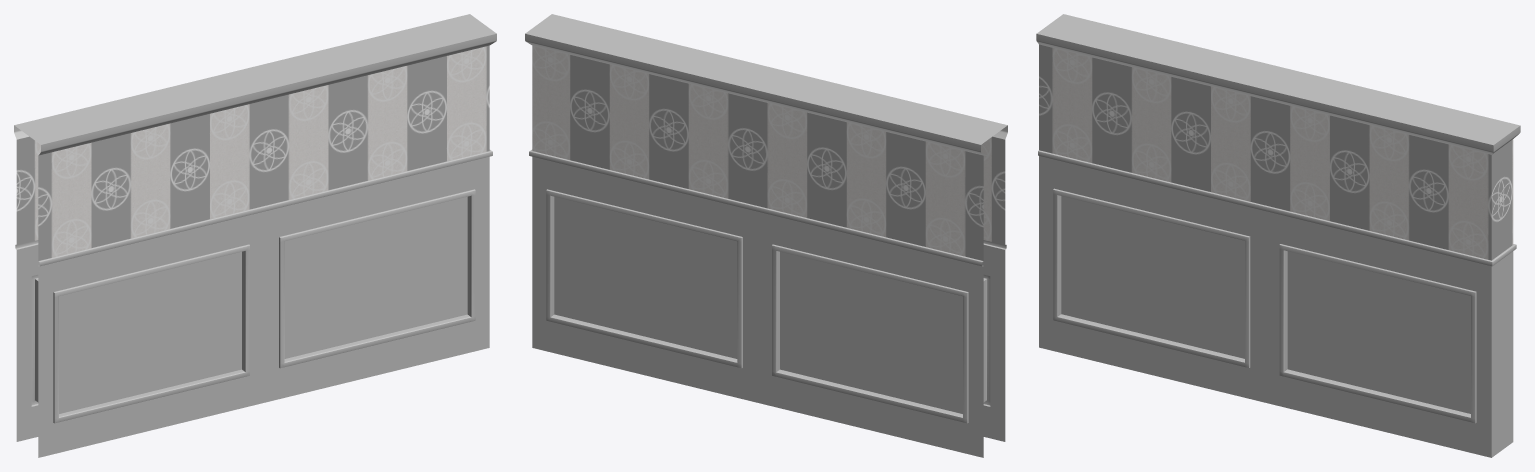
Rendered from WallNiche03_300x200x25cm.FBX.
3 views of the same model, side by side, from view 1: azimuth 30°, elevation 25°; view 2: azimuth 150°, elevation 25°; view 3: azimuth 330°, elevation 25° (orthographic).
Parts seen in each view (by area): view 1: WallNiche03_300x200x25cm; view 2: WallNiche03_300x200x25cm; view 3: WallNiche03_300x200x25cm.
Boxes of the visible parts, x1,y1,x2,y2 form: WallNiche03_300x200x25cm: (14,14,496,457); WallNiche03_300x200x25cm: (525,14,1007,457); WallNiche03_300x200x25cm: (1036,14,1520,457).
Size of the model in its own units: 3030 by 2000 by 310.
